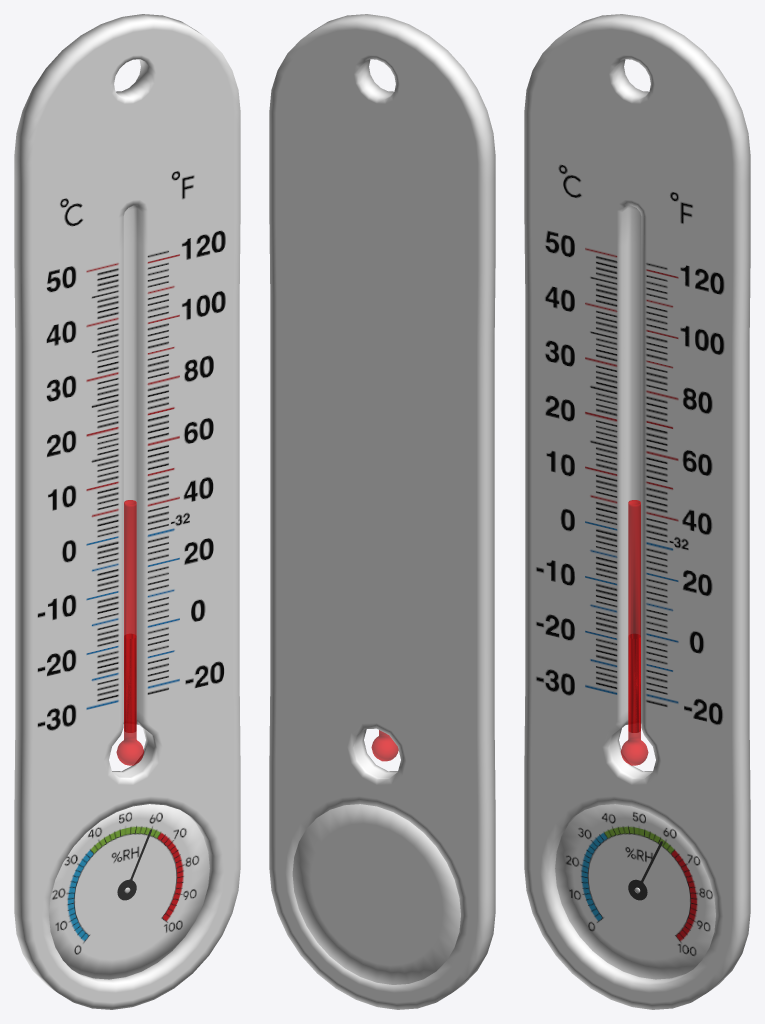
File: Therometer.glb
The picture shows the model from 3 angles, left to right: view 1: azimuth 30°, elevation 25°; view 2: azimuth 150°, elevation 25°; view 3: azimuth 330°, elevation 25°; orthographic projection.
Parts seen in each view (by area): view 1: Circle, Circle.002, Cube.001; view 2: Circle, Circle.002, Cube.001; view 3: Circle, Circle.002, Cube.001.
Boxes of the visible parts, x1,y1,x2,y2 form: Circle: [14, 14, 240, 1009]; Circle.002: [49, 804, 209, 979]; Cube.001: [116, 500, 144, 765]; Circle: [269, 14, 495, 1009]; Circle.002: [292, 804, 460, 984]; Cube.001: [371, 730, 398, 761]; Circle: [524, 14, 750, 1009]; Circle.002: [555, 804, 715, 979]; Cube.001: [620, 500, 648, 765].
Size of the model in its own units: 1.37 by 6 by 0.1759.
Materials: 6 (2 with a texture image).
